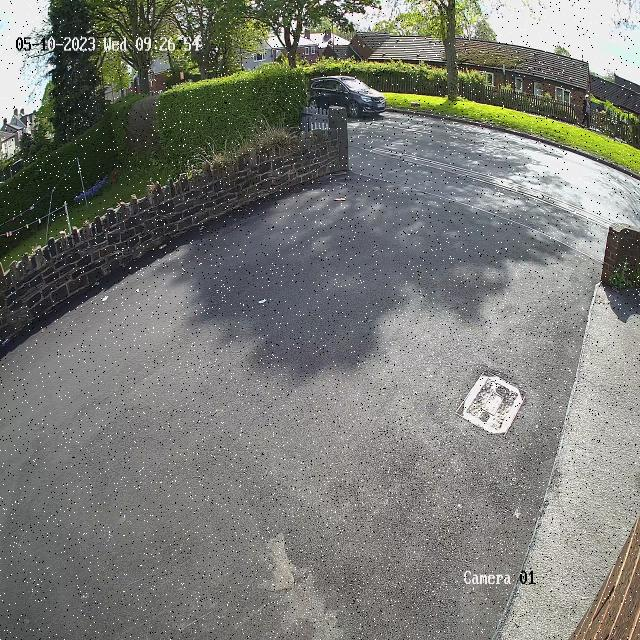vehicle: (305, 64, 389, 122)
